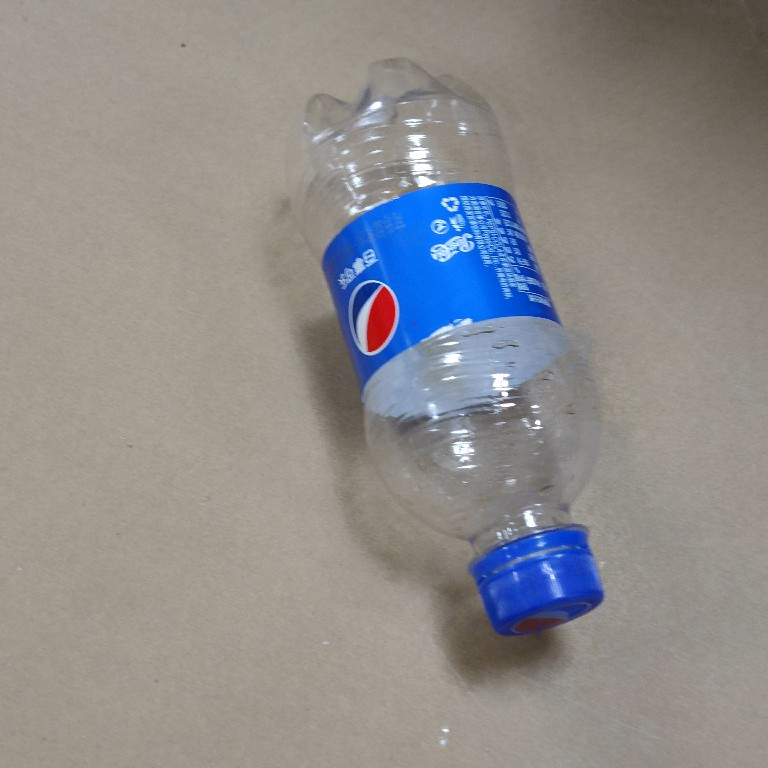bottle: (280, 52, 613, 644)
